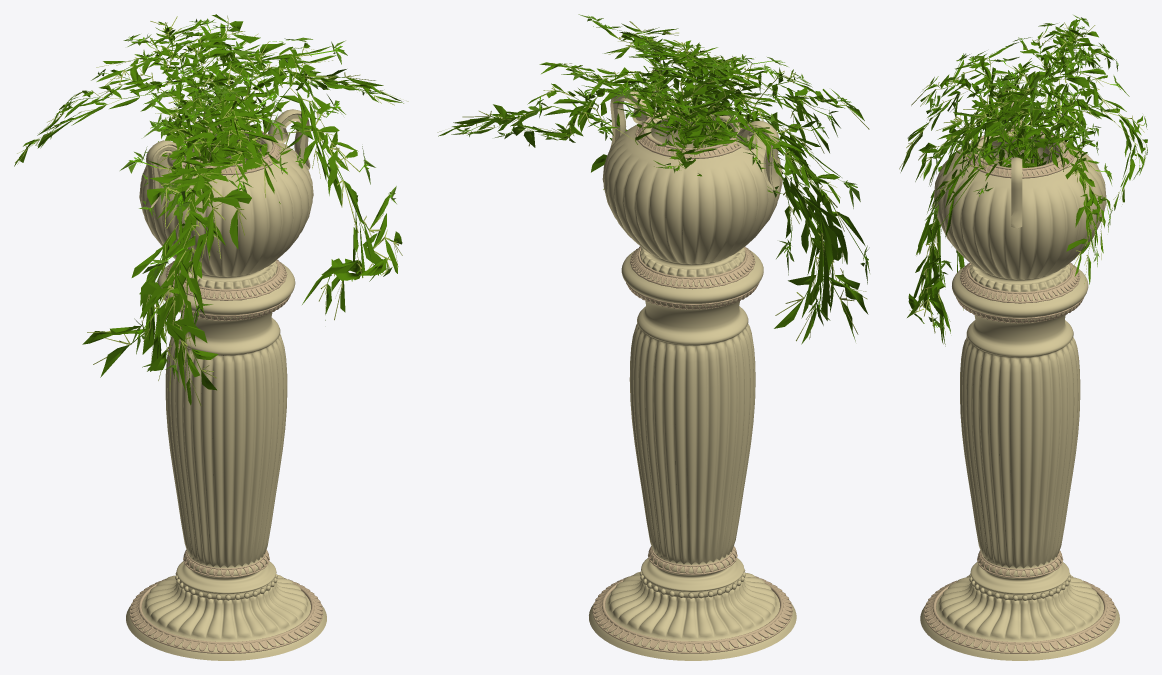
The model's file is vase.FBX.
3 views of the same model, side by side, from view 1: azimuth 30°, elevation 25°; view 2: azimuth 150°, elevation 25°; view 3: azimuth 270°, elevation 25° (orthographic). The views are drawn at different scales.
Visible parts, largest first — view 1: Vasa - telo, flower3.l09, flower3.18, flower3.l10, flower3.20, flower3.19, flower3.21, Line01, Torus04, Line293; view 2: Vasa - telo, flower3.20, flower3.l09, flower3.19, flower3.l10, flower3.21, flower3.18, Line01, Torus04, Line293; view 3: Vasa - telo, flower3.18, flower3.l09, flower3.19, flower3.21, flower3.l10, flower3.20, Line01, Torus04, Torus03, Torus06.
Boxes of the visible parts, x1=… form: Vasa - telo: x1=126, y1=127, x2=326, y2=660; flower3.l09: x1=120, y1=65, x2=278, y2=406; flower3.18: x1=143, y1=37, x2=402, y2=320; flower3.l10: x1=14, y1=19, x2=310, y2=168; flower3.20: x1=82, y1=85, x2=287, y2=391; flower3.19: x1=123, y1=14, x2=302, y2=178; flower3.21: x1=139, y1=33, x2=408, y2=217; Line01: x1=268, y1=109, x2=310, y2=169; Torus04: x1=138, y1=580, x2=314, y2=644; Line293: x1=146, y1=140, x2=186, y2=207; Vasa - telo: x1=589, y1=111, x2=796, y2=660; flower3.20: x1=637, y1=88, x2=868, y2=341; flower3.l09: x1=616, y1=54, x2=869, y2=344; flower3.19: x1=511, y1=36, x2=787, y2=160; flower3.l10: x1=631, y1=39, x2=840, y2=204; flower3.21: x1=437, y1=62, x2=782, y2=197; flower3.18: x1=578, y1=14, x2=747, y2=189; Line01: x1=610, y1=90, x2=650, y2=147; Torus04: x1=601, y1=577, x2=783, y2=643; Line293: x1=736, y1=120, x2=779, y2=190; Vasa - telo: x1=920, y1=130, x2=1119, y2=660; flower3.18: x1=907, y1=63, x2=1060, y2=346; flower3.l09: x1=899, y1=42, x2=1083, y2=334; flower3.19: x1=967, y1=15, x2=1147, y2=210; flower3.21: x1=998, y1=85, x2=1112, y2=284; flower3.l10: x1=973, y1=20, x2=1118, y2=196; flower3.20: x1=940, y1=94, x2=1100, y2=310; Line01: x1=1011, y1=157, x2=1022, y2=228; Torus04: x1=932, y1=581, x2=1107, y2=644; Torus03: x1=923, y1=600, x2=1116, y2=653; Torus06: x1=960, y1=269, x2=1080, y2=303.
Size of the model in its own units: 688 by 975 by 381.
